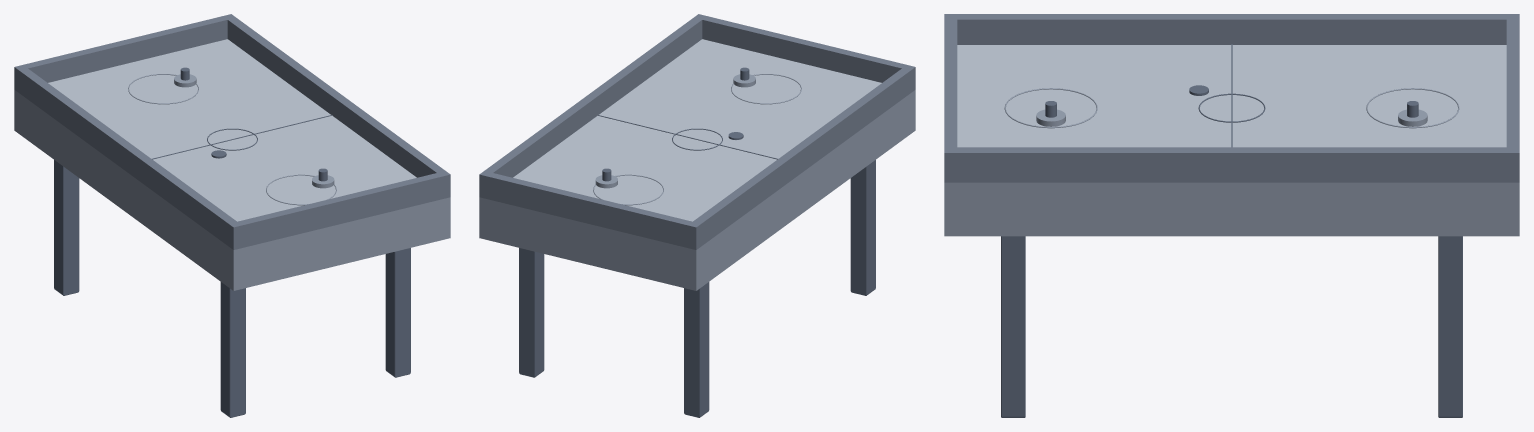
File: air-hockey-table.glb
3 renders of one model, left to right at view 1: azimuth 30°, elevation 25°; view 2: azimuth 150°, elevation 25°; view 3: azimuth 270°, elevation 25°, orthographic. The views are drawn at different scales.
Parts seen in each view (by area): view 1: light, accent, body, dark; view 2: light, accent, body, dark; view 3: light, accent, body, dark.
Part boxes in pixels (x1,y1,x2,y2): light: (48,39,416,221); accent: (14,14,450,249); body: (14,74,450,290); dark: (54,67,410,417); light: (513,39,881,221); accent: (479,14,915,249); body: (479,74,915,290); dark: (519,67,875,417); light: (957,45,1506,147); accent: (944,14,1519,182); body: (944,88,1519,236); dark: (1001,44,1462,417).
Bounding box in the file's own units: 1 × 0.93 × 1.75.
